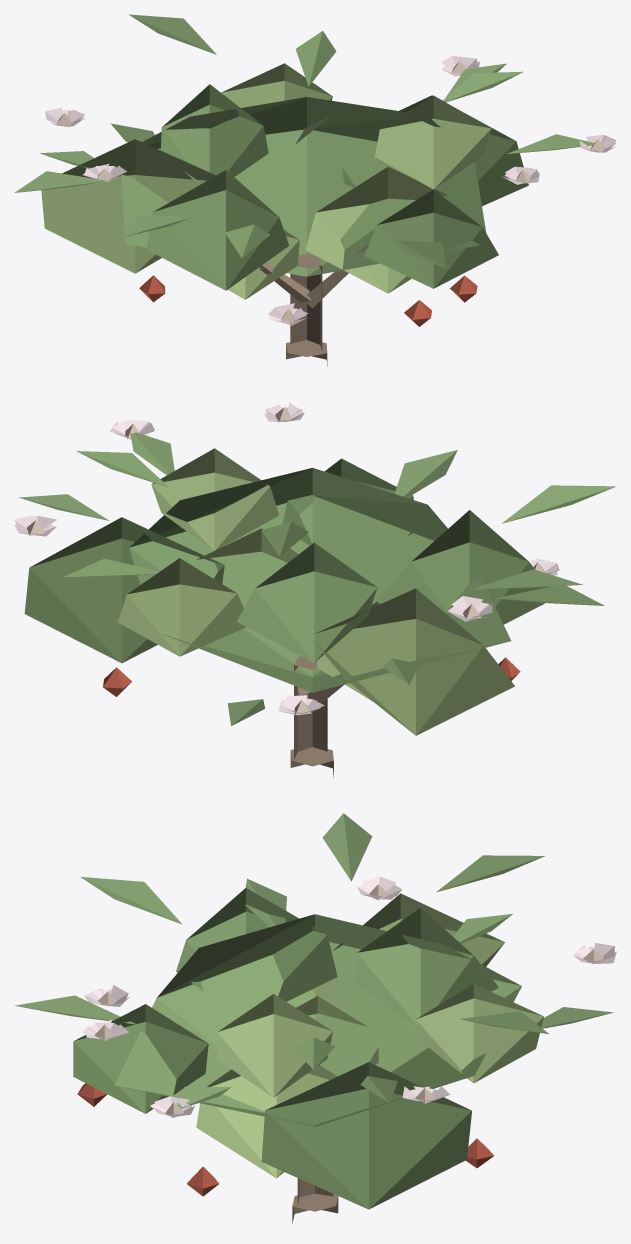
File: shu.cha__bloom.glb
3 renders of one model, top to bottom at view 1: azimuth 30°, elevation 25°; view 2: azimuth 150°, elevation 25°; view 3: azimuth 270°, elevation 25°, orthographic. The views are drawn at different scales.
Visible parts, largest first — view 1: shu.cha__bloom; view 2: shu.cha__bloom; view 3: shu.cha__bloom.
Part boxes in pixels (x1,y1,x2,y2): shu.cha__bloom: [14, 14, 616, 366]; shu.cha__bloom: [14, 402, 616, 778]; shu.cha__bloom: [15, 813, 616, 1223].
Size of the model in its own units: 4.81 by 2.57 by 4.33.
